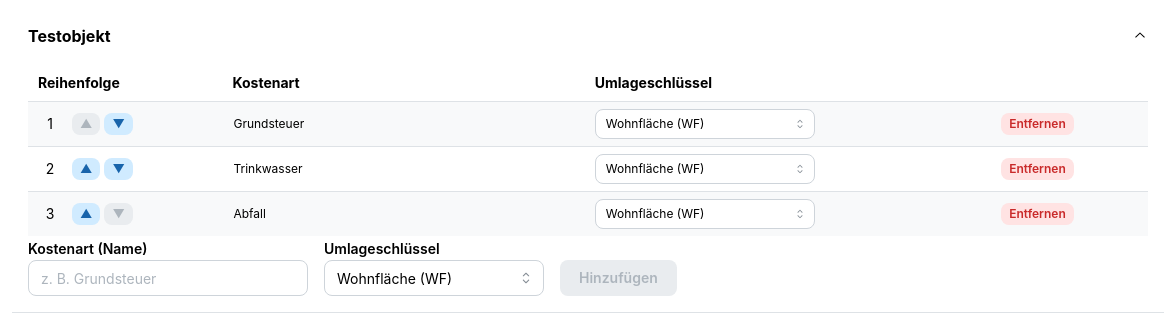
ConfigsTab › lässt sich im „Hinzufügen“-Feld tippen ohne Absturz und aktiviert den Button
Note: Tippen darf keinen Render-Absturz auslösen (e.currentTarget nicht im Updater nutzen)
In the field labelled "Kostenart (Name)": (168, 278) [28, 260, 308, 296], type "Hausgeld"
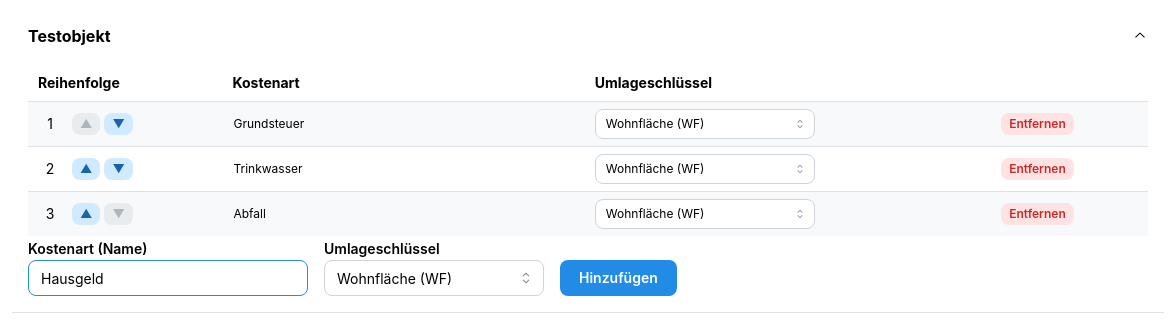
Expected: the heading "Testobjekt" is shown, [28, 26, 110, 46]
Result: the button "Hinzufügen" is enabled at [560, 260, 677, 296]
